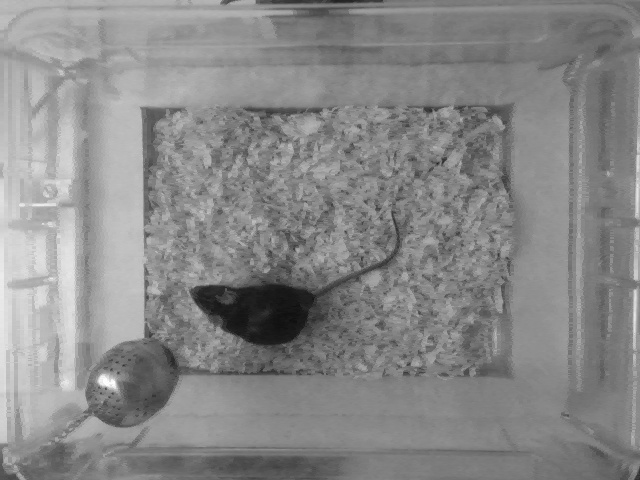mice: (187, 209, 400, 349)
